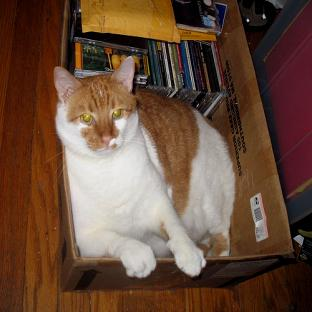Animal: (54, 56, 235, 277)
